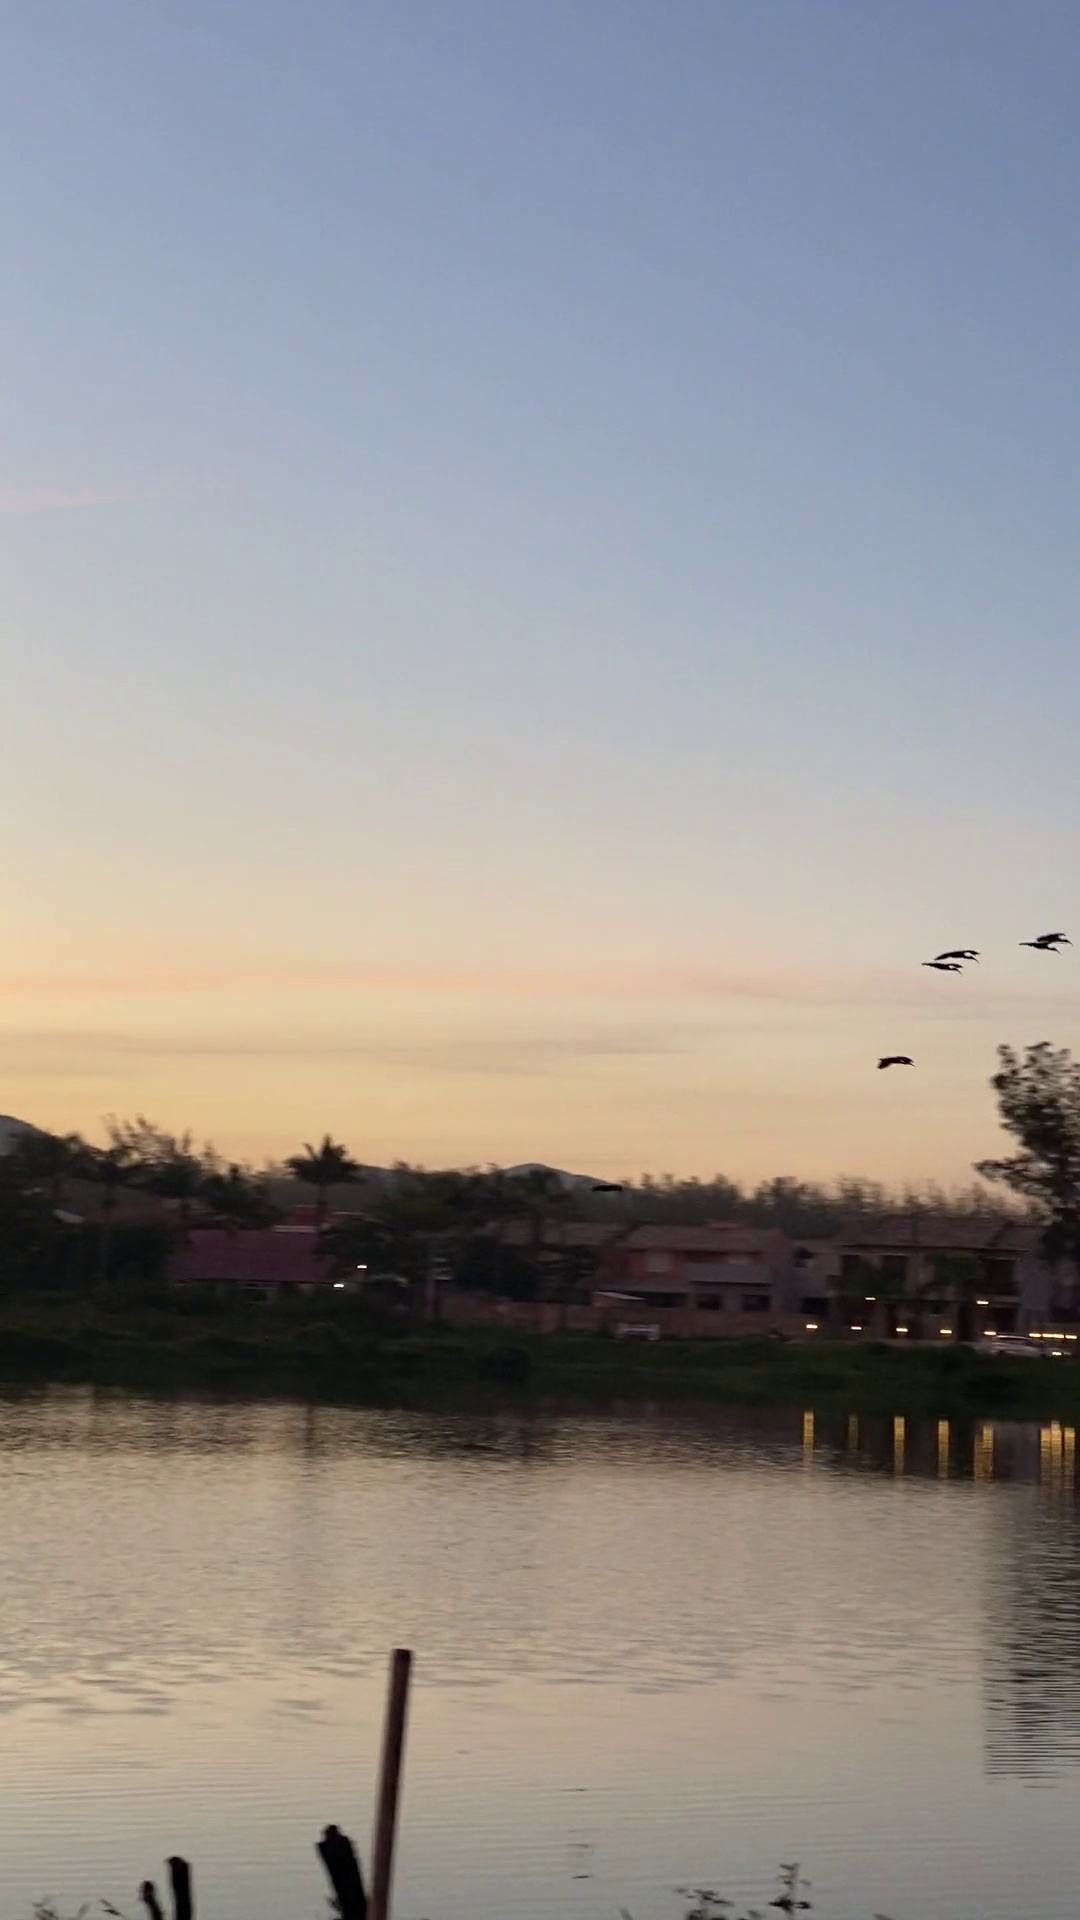bird: (935, 948, 978, 961), (876, 1055, 915, 1068), (1036, 931, 1072, 945), (1018, 942, 1062, 953), (920, 961, 963, 972)
